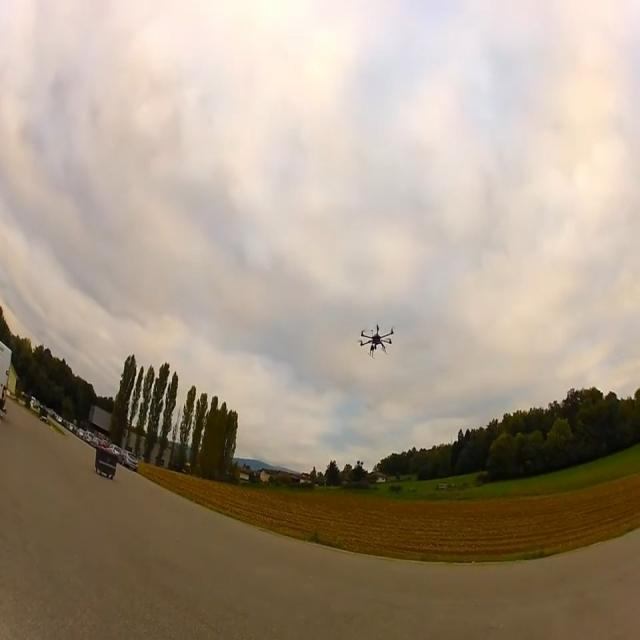drone: (357, 323, 394, 358)
